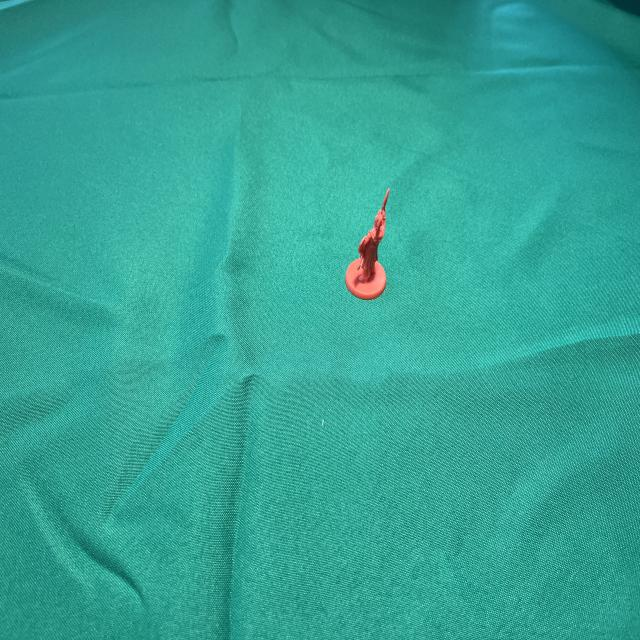amon_follower: (345, 188, 390, 300)
